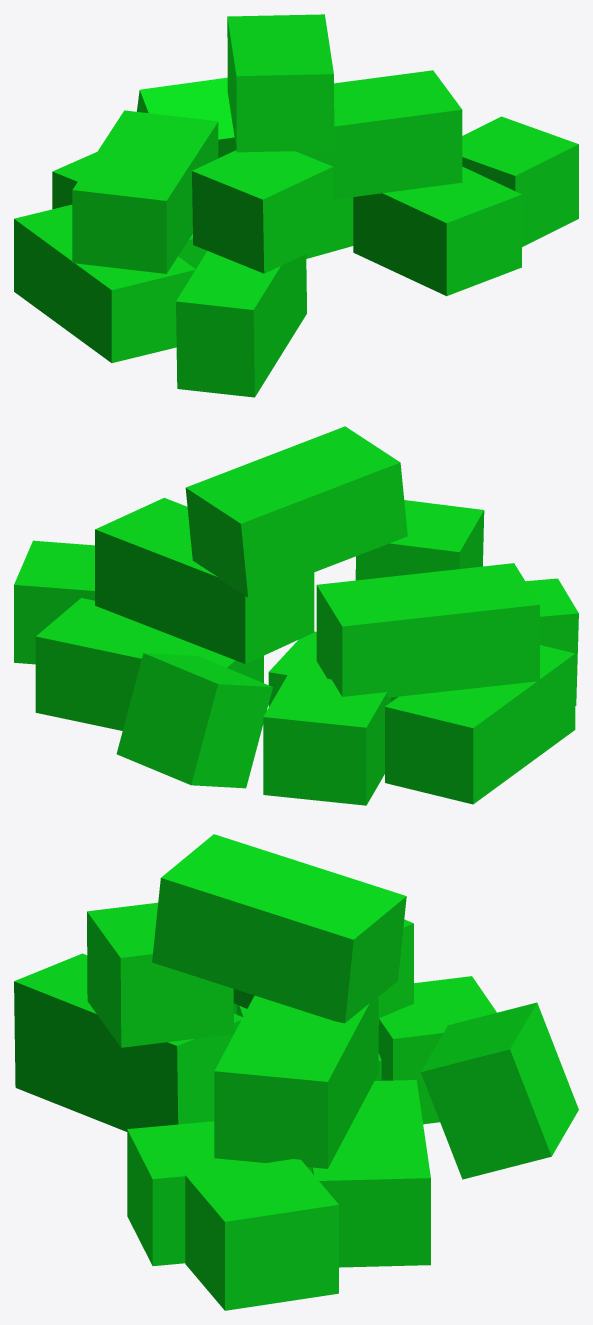
Rendered from Brick_Pile_02.fbx.
The picture shows the model from 3 angles, top to bottom: view 1: azimuth 30°, elevation 25°; view 2: azimuth 150°, elevation 25°; view 3: azimuth 270°, elevation 25°; orthographic projection. The views are drawn at different scales.
Parts seen in each view (by area): view 1: Brick_Pile_02; view 2: Brick_Pile_02; view 3: Brick_Pile_02.
Boxes of the visible parts, x1=… form: Brick_Pile_02: x1=14, y1=14, x2=578, y2=397; Brick_Pile_02: x1=14, y1=426, x2=578, y2=805; Brick_Pile_02: x1=14, y1=834, x2=578, y2=1310.
Size of the model in its own units: 952 by 449 by 788.
